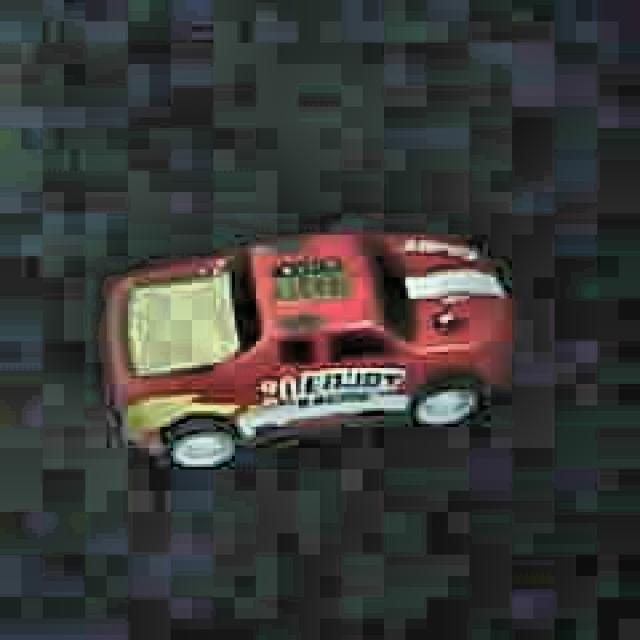car: (100, 224, 518, 471)
